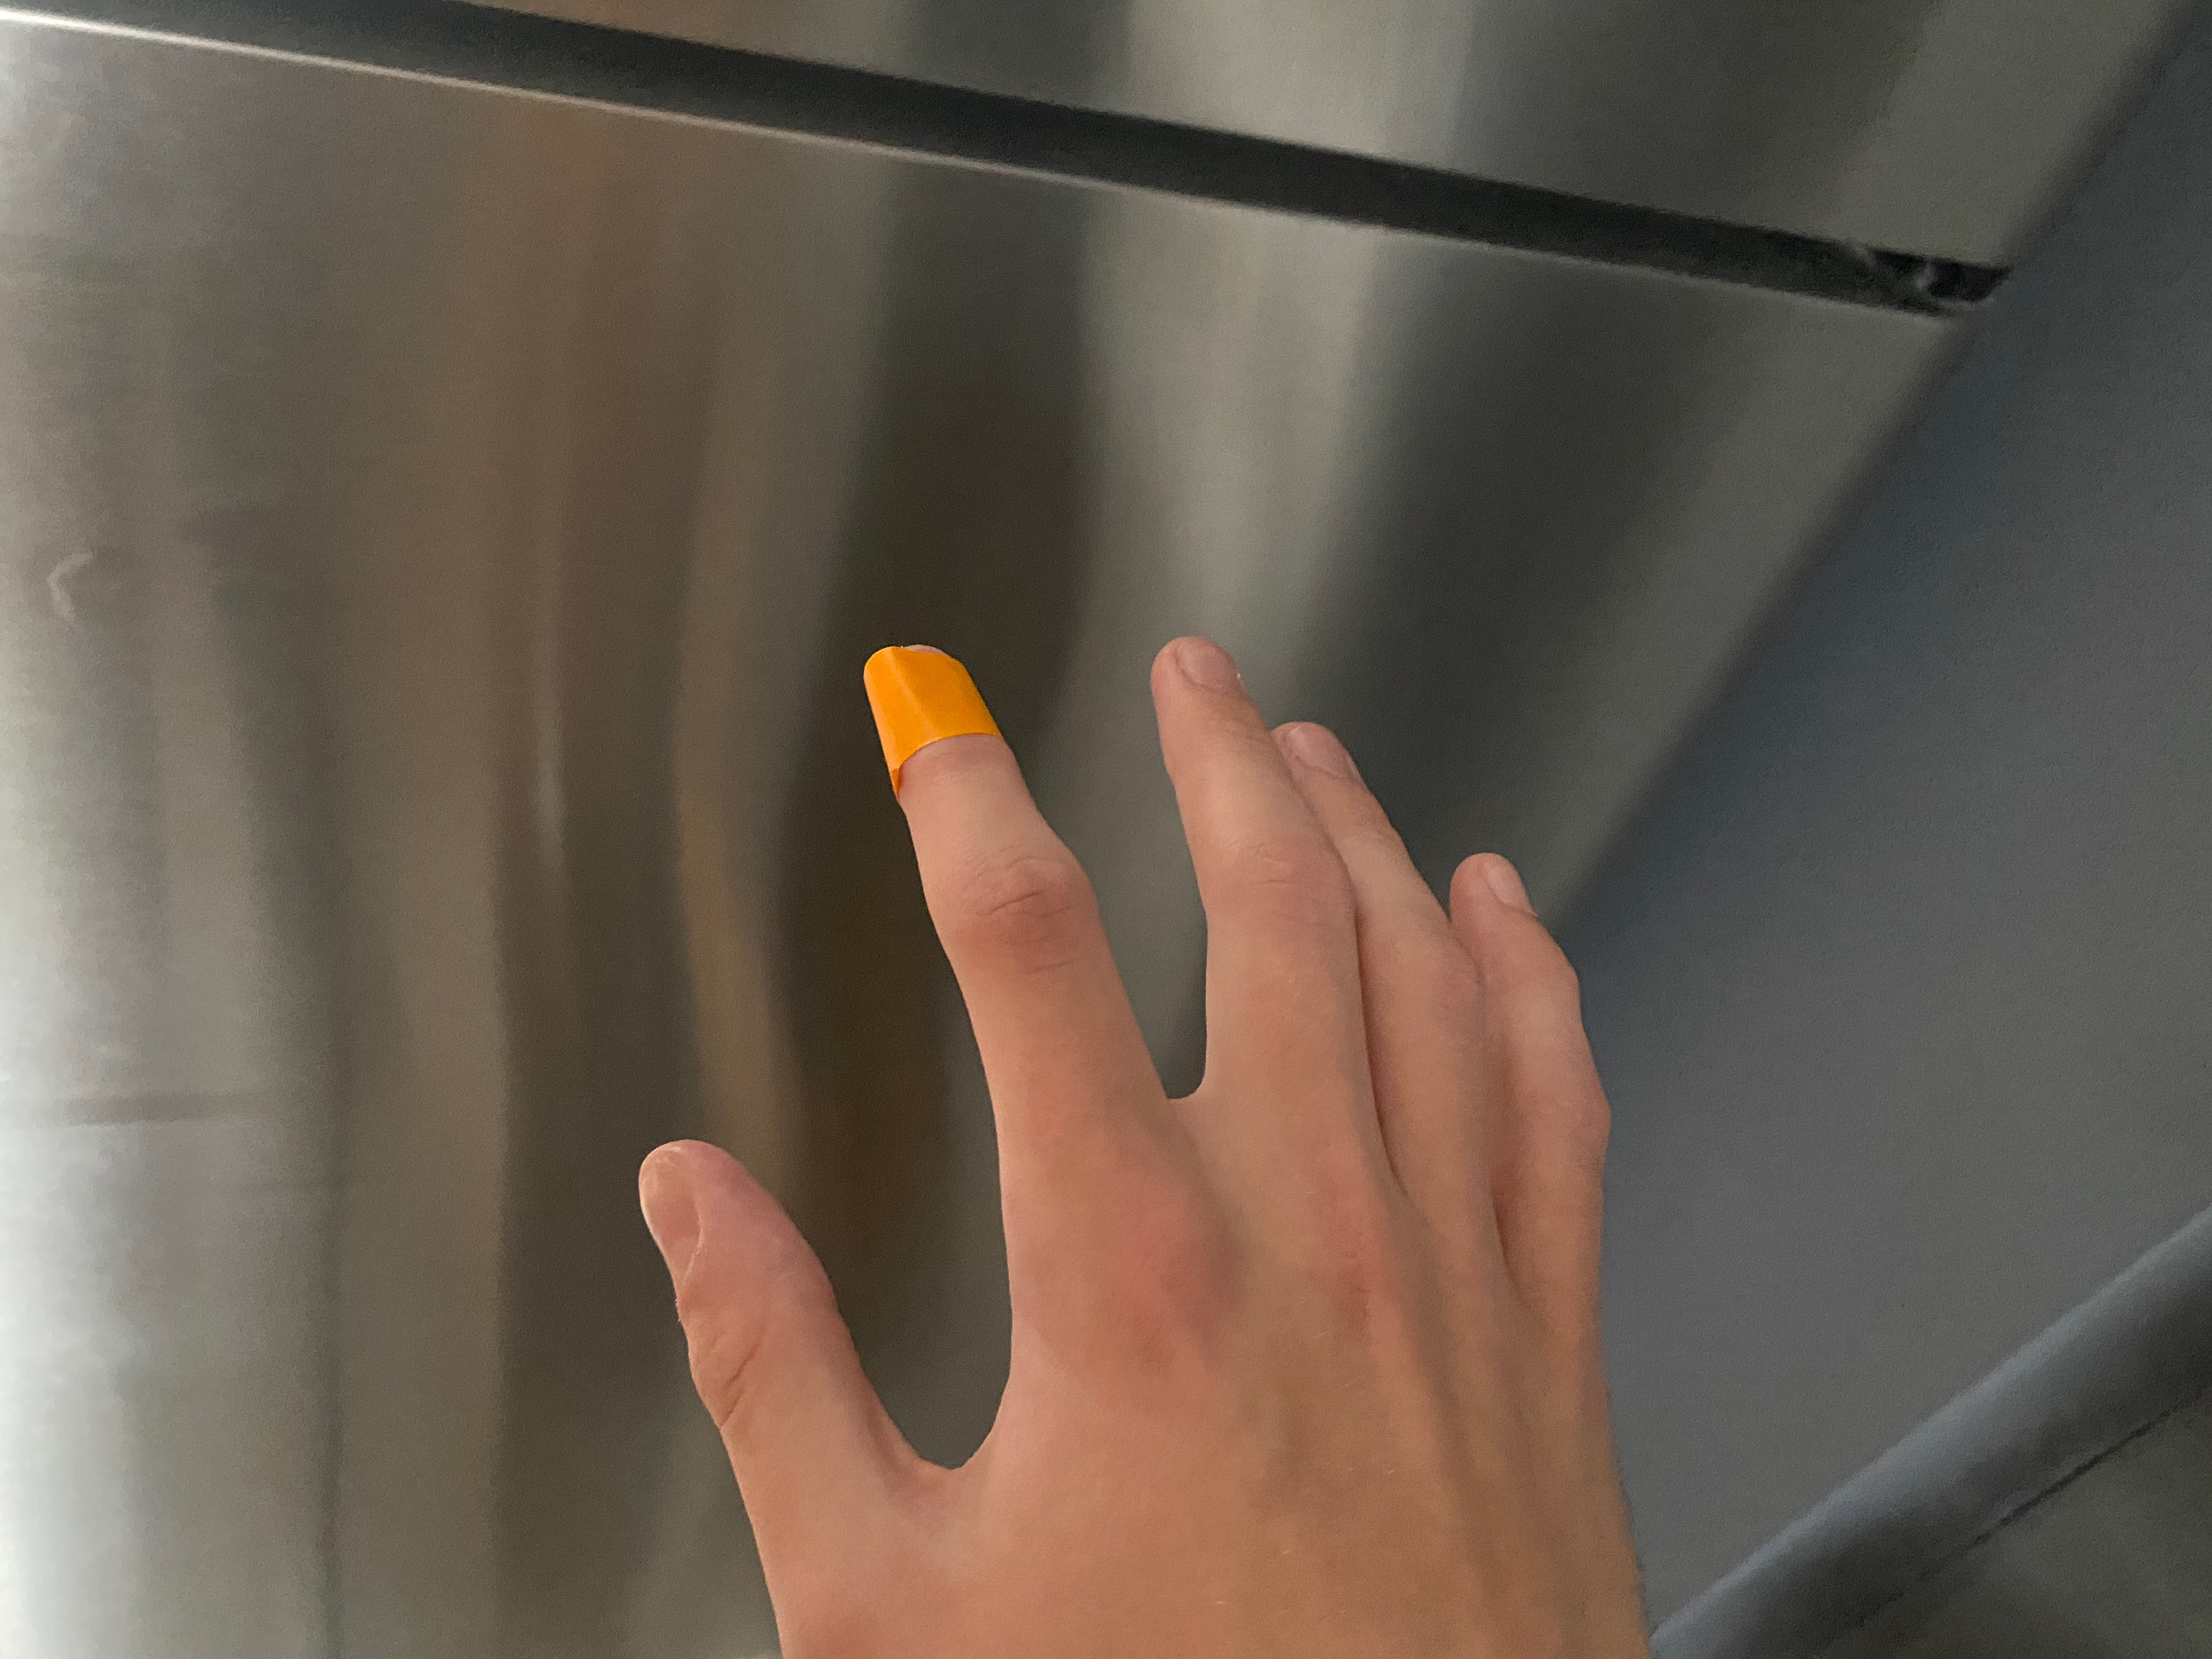fingertip: (836, 636, 1040, 795)
